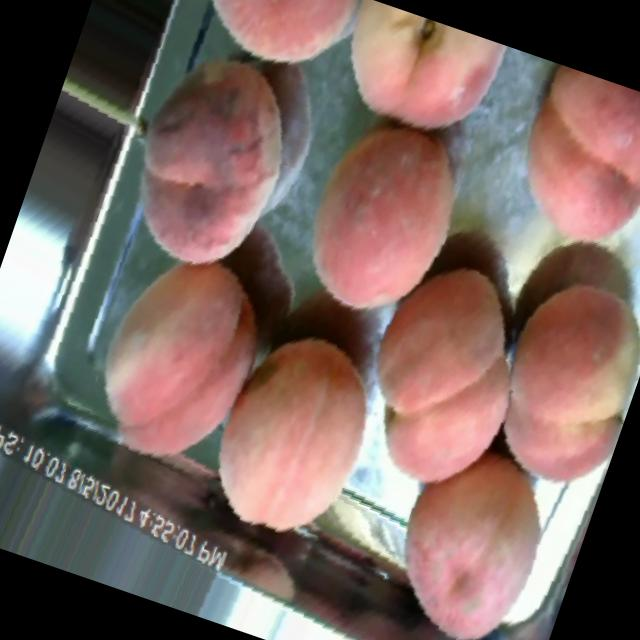Fruit: (92, 20, 334, 300), (316, 224, 543, 521), (189, 304, 420, 582), (346, 400, 602, 640), (273, 87, 505, 348), (64, 224, 281, 487), (444, 237, 640, 521), (473, 54, 640, 286), (312, 0, 523, 166), (167, 0, 369, 99)
